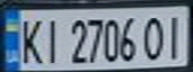0: (103, 15, 124, 63)
2: (66, 15, 87, 64)
6: (118, 15, 142, 62)
7: (84, 15, 106, 64)
I: (160, 11, 190, 61), (39, 14, 66, 65)
K: (15, 14, 45, 65)
O: (139, 12, 169, 62)
